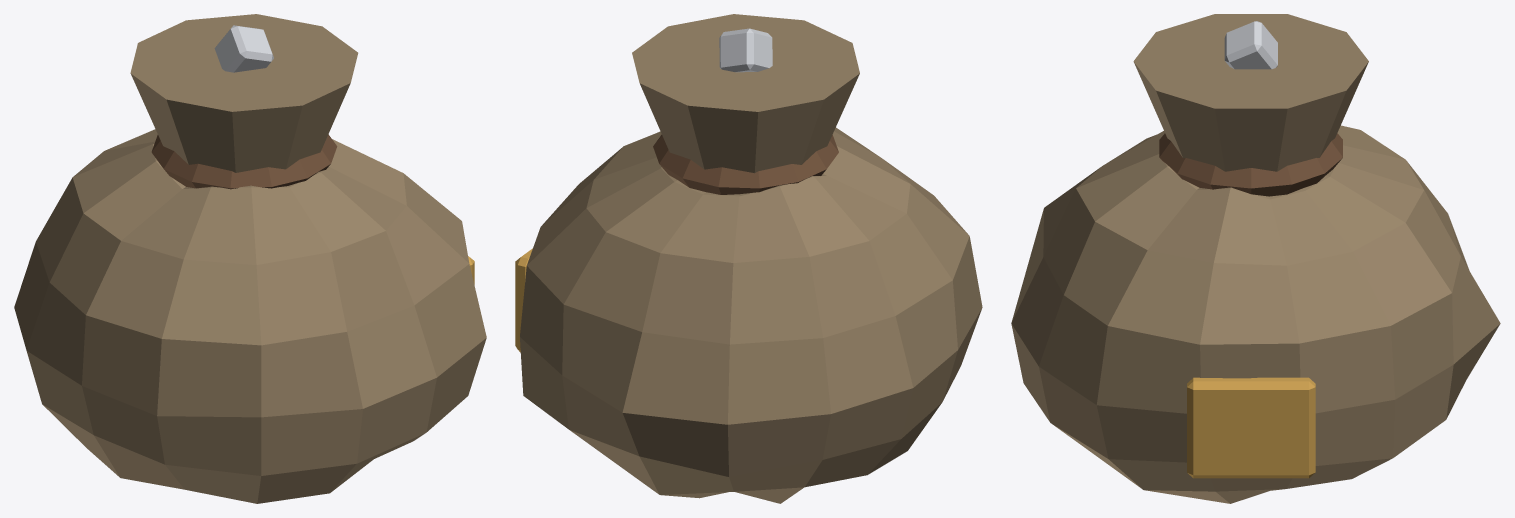
The model's file is SM_LootBag.fbx.
3 renders of one model, left to right at view 1: azimuth 30°, elevation 25°; view 2: azimuth 150°, elevation 25°; view 3: azimuth 270°, elevation 25°, orthographic.
Visible parts, largest first — view 1: SM_LootBag; view 2: SM_LootBag; view 3: SM_LootBag.
Boxes of the visible parts, box(x1,y1,x2,y2) form: SM_LootBag: box(14, 14, 486, 503); SM_LootBag: box(515, 14, 982, 503); SM_LootBag: box(1011, 14, 1500, 503).
Bounding box in the file's own units: 42.99 × 45.88 × 45.7.
